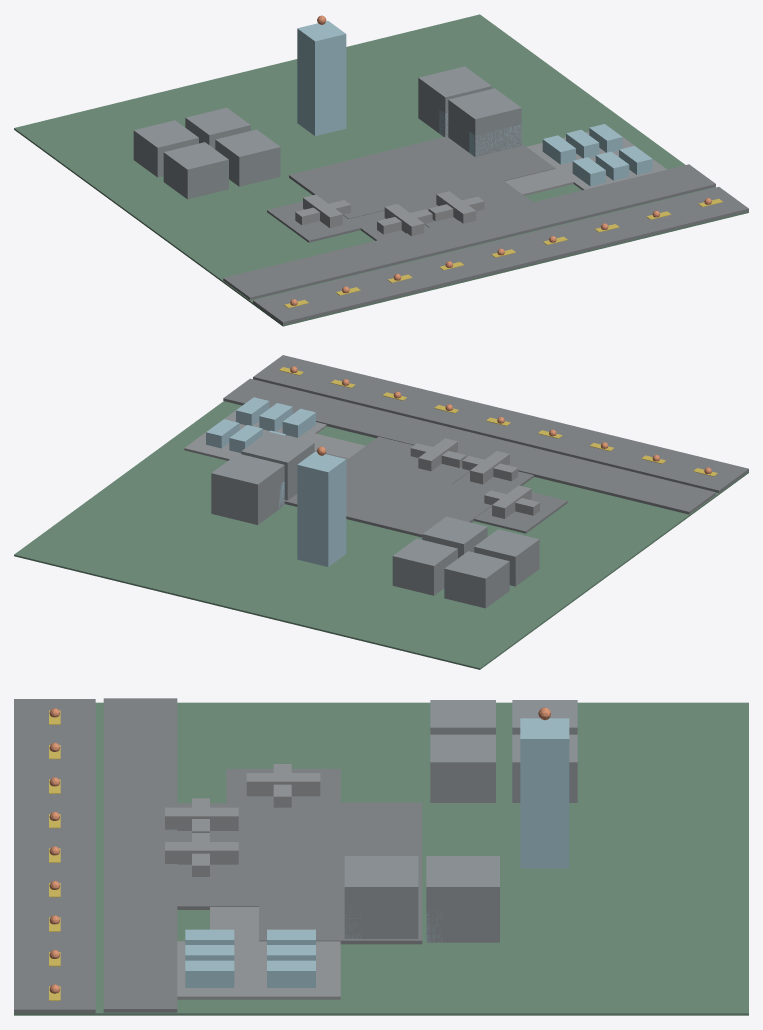
Rendered from stage_18.glb.
The picture shows the model from 3 angles, top to bottom: view 1: azimuth 30°, elevation 25°; view 2: azimuth 150°, elevation 25°; view 3: azimuth 270°, elevation 25°; orthographic projection. The views are drawn at different scales.
Visible parts, largest first — view 1: geometry_0; view 2: geometry_0; view 3: geometry_0.
Boxes of the visible parts, x1,y1,x2,y2 form: geometry_0: [14, 14, 748, 326]; geometry_0: [14, 355, 748, 669]; geometry_0: [14, 698, 748, 1015].
Bounding box in the file's own units: 9 × 2.06 × 9.
